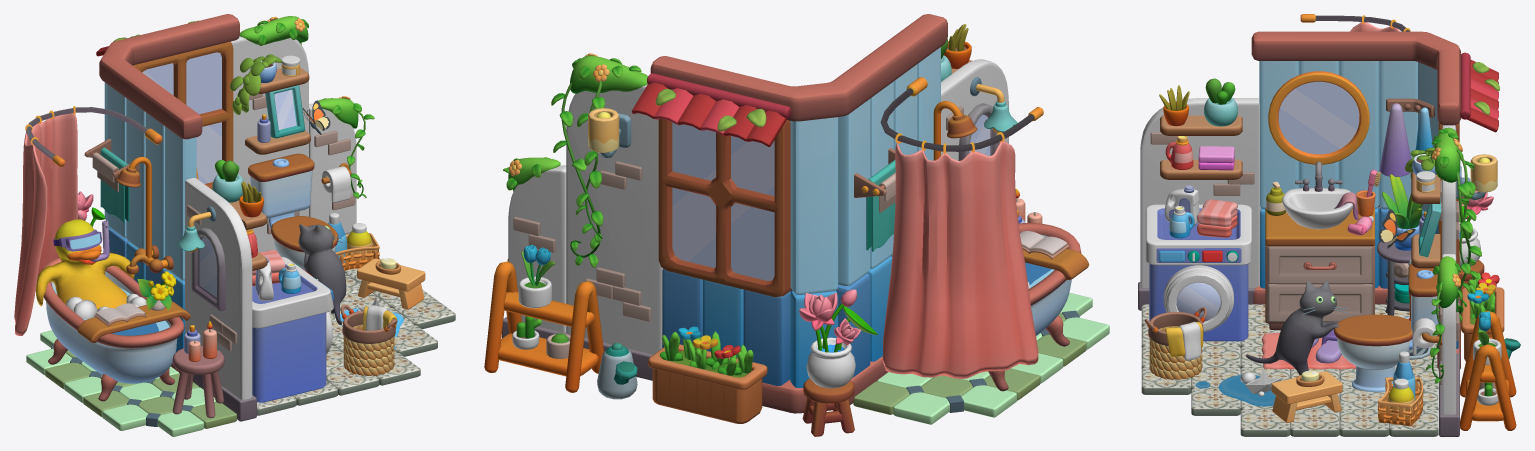
File: Lv50_Bathroom_Root.fbx
3 views of the same model, side by side, from view 1: azimuth 30°, elevation 25°; view 2: azimuth 150°, elevation 25°; view 3: azimuth 270°, elevation 25° (orthographic). The views are drawn at different scales.
Visible parts, largest first — view 1: Bathroom_Wall_1, Bathroom_Carpet, Bathroom_Wall_2, Bathroom_Washingmachine, Bathroom_Wall_3, Bathroom_Bath, Bathroom_Floor_2, Bathroom_Floor_1, Bathroom_Window, Bathroom_Duck, Bathroom_Toilet, Bathroom_Basket (+25 smaller); view 2: Bathroom_Wall_1, Bathroom_Carpet, Bathroom_Wall_3, Bathroom_Window, Bathroom_Floor_2, Bathroom_Flower, Bathroom_Shelf_Flower3, Bathroom_Roof, Bathroom_Brush_2, Bathroom_Lotus, Bathroom_Bath, Bathroom_Wall_2 (+13 smaller); view 3: Bathroom_Wall_1, Bathroom_Floor_1, Bathroom_Washingmachine, Bathroom_Cabinet, Bathroom_Wall_2, Bathroom_Mirror, Bathroom_Toilet, Bathroom_Wall_3, Bathroom_Shelf_Flower3, Bathroom_Basket, Bathroom_Cat, Bathroom_Lavabo (+33 smaller).
Part boxes in pixels (box(x1,y1,x2,y2)): Bathroom_Wall_1: box(99, 14, 239, 373); Bathroom_Carpet: box(14, 106, 162, 335); Bathroom_Wall_2: box(185, 178, 256, 421); Bathroom_Washingmachine: box(252, 257, 333, 402); Bathroom_Wall_3: box(231, 36, 356, 252); Bathroom_Bath: box(41, 257, 184, 401); Bathroom_Floor_2: box(26, 330, 236, 436); Bathroom_Floor_1: box(257, 258, 455, 415); Bathroom_Window: box(133, 41, 233, 189); Bathroom_Duck: box(35, 219, 134, 309); Bathroom_Toilet: box(248, 153, 338, 270); Bathroom_Basket: box(340, 304, 397, 375); Bathroom_Wall_1: box(650, 14, 947, 413); Bathroom_Carpet: box(880, 77, 1043, 378); Bathroom_Wall_3: box(502, 84, 662, 380); Bathroom_Window: box(658, 118, 791, 297); Bathroom_Floor_2: box(853, 292, 1109, 424); Bathroom_Flower: box(648, 326, 767, 423); Bathroom_Shelf_Flower3: box(484, 261, 603, 392); Bathroom_Roof: box(632, 73, 791, 146); Bathroom_Brush_2: box(551, 53, 647, 267); Bathroom_Lotus: box(799, 289, 877, 388); Bathroom_Bath: box(988, 223, 1081, 391); Bathroom_Wall_2: box(941, 59, 1008, 160); Bathroom_Wall_1: box(1251, 31, 1460, 370); Bathroom_Floor_1: box(1141, 304, 1438, 436); Bathroom_Washingmachine: box(1145, 204, 1251, 341); Bathroom_Cabinet: box(1265, 207, 1374, 329); Bathroom_Wall_2: box(1138, 98, 1260, 310); Bathroom_Mirror: box(1268, 71, 1369, 164); Bathroom_Toilet: box(1334, 263, 1438, 392); Bathroom_Wall_3: box(1439, 125, 1459, 436); Bathroom_Shelf_Flower3: box(1460, 311, 1516, 430); Bathroom_Basket: box(1144, 307, 1206, 379); Bathroom_Cat: box(1246, 280, 1348, 375); Bathroom_Lavabo: box(1282, 161, 1358, 229).
Size of the model in its own units: 482 by 305 by 387.
